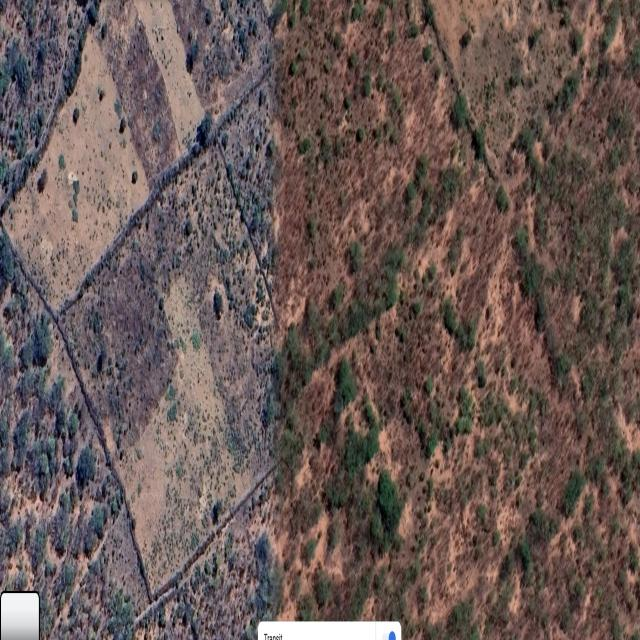boundaries: (413, 2, 638, 618), (45, 55, 276, 343), (0, 220, 166, 619), (0, 0, 101, 226), (145, 455, 286, 616)
